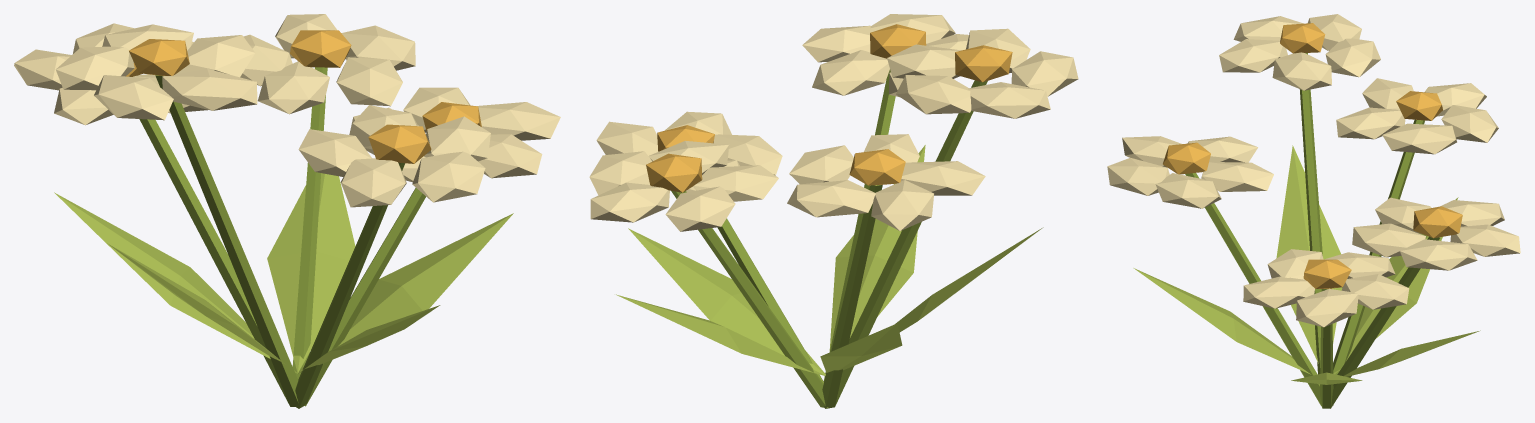
Rendered from Wildflowers.fbx.
The picture shows the model from 3 angles, left to right: view 1: azimuth 30°, elevation 25°; view 2: azimuth 150°, elevation 25°; view 3: azimuth 270°, elevation 25°; orthographic projection. The views are drawn at different scales.
Parts seen in each view (by area): view 1: Wildflowers; view 2: Wildflowers; view 3: Wildflowers.
Part boxes in pixels (x1,y1,x2,y2): Wildflowers: (14,14,560,408); Wildflowers: (589,14,1078,408); Wildflowers: (1107,14,1520,408).
Bounding box in the file's own units: 72.79 × 58.78 × 68.2.
